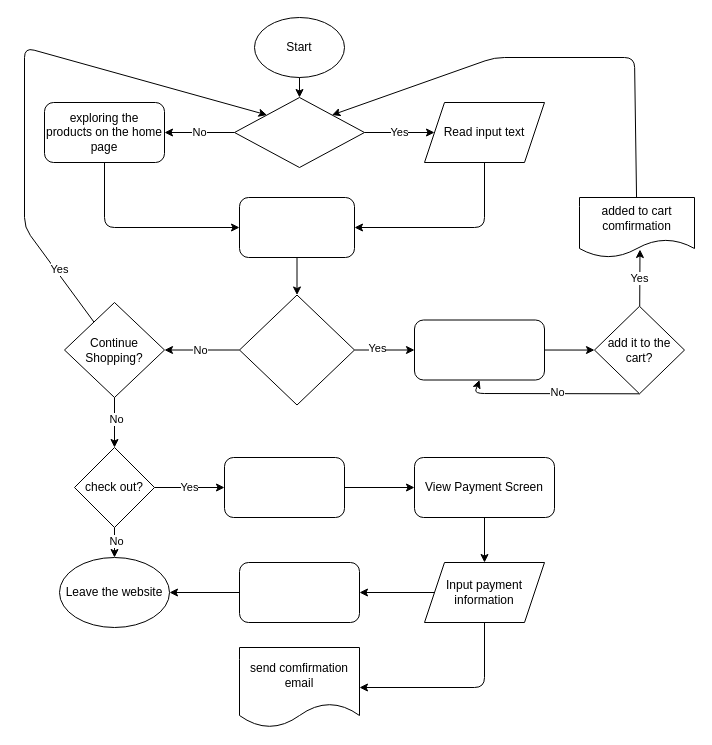
The diagram is 712 pixels wide and 745 high, and some of its shapes have lost their labels. The box of each missing label's shape, as (x1, y1, x2, y2) in pixels:
looking over the products: (238, 196, 354, 258)
Open the product webpage: (414, 319, 544, 380)
order comfirmation screen: (238, 562, 360, 622)
Searching for a product?: (234, 96, 364, 168)
View a specific product?: (238, 294, 354, 405)
View Cart screen: (224, 456, 344, 518)
